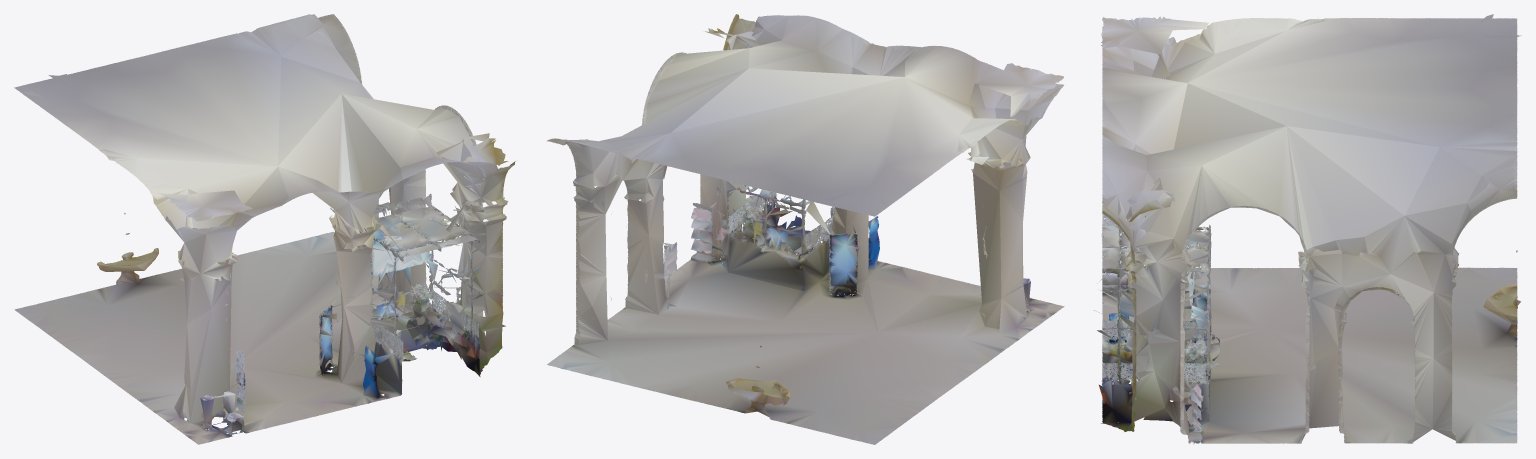
The picture shows the model from 3 angles, left to right: view 1: azimuth 30°, elevation 25°; view 2: azimuth 150°, elevation 25°; view 3: azimuth 270°, elevation 25°; orthographic projection. The views are drawn at different scales.
Bounding box in the file's own units: 10.21 × 7.21 × 10.33.
